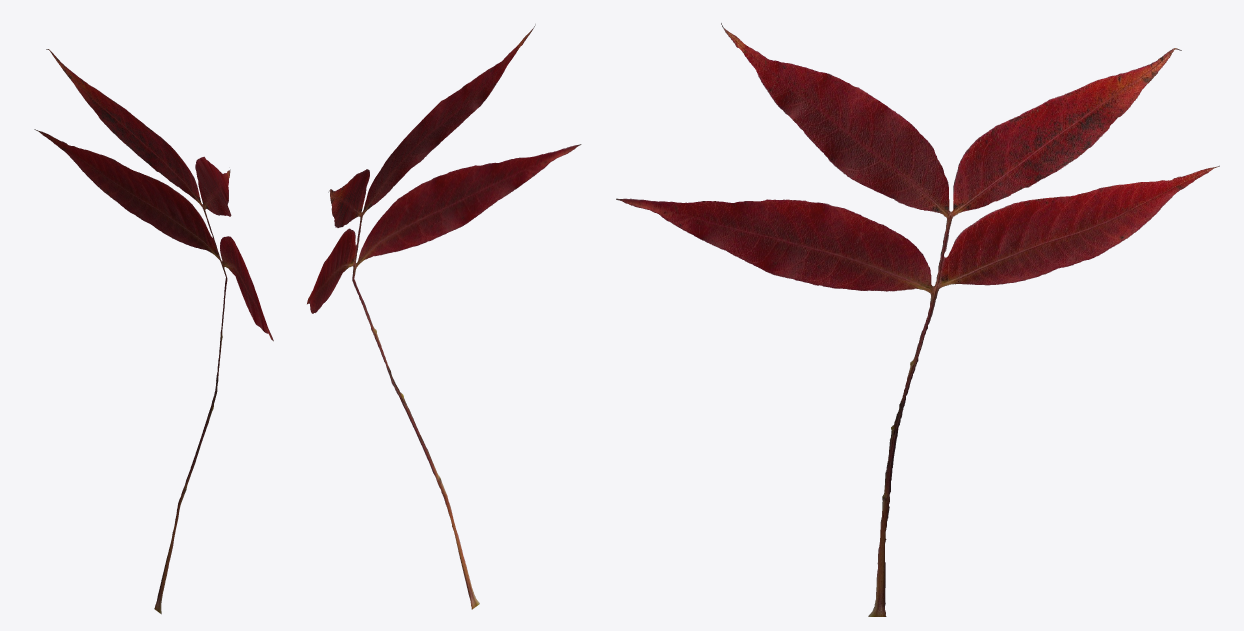
The model's file is LEAF4.fbx.
3 renders of one model, left to right at view 1: azimuth 30°, elevation 25°; view 2: azimuth 150°, elevation 25°; view 3: azimuth 270°, elevation 25°, orthographic. The views are drawn at different scales.
Visible parts, largest first — view 1: FALL32.001; view 2: FALL32.001; view 3: FALL32.001.
Part boxes in pixels (box(x1,y1,x2,y2)): FALL32.001: box(34, 49, 273, 614); FALL32.001: box(307, 24, 581, 609); FALL32.001: box(616, 23, 1219, 616).
Bounding box in the file's own units: 19.41 × 100 × 92.61.
